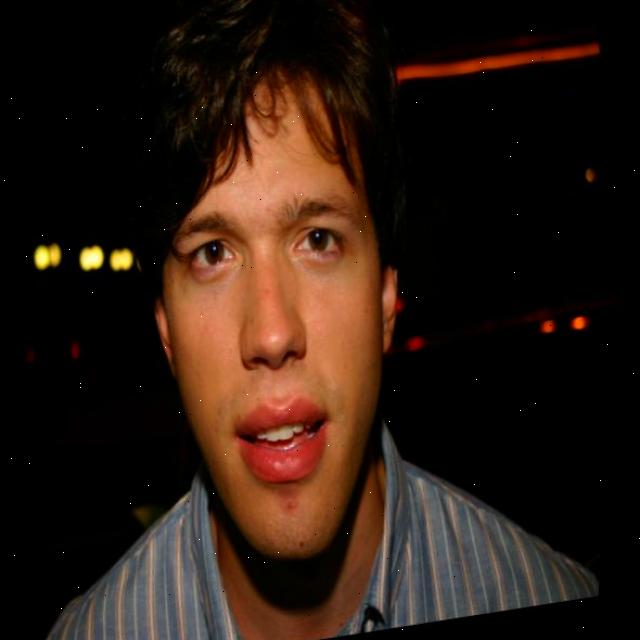puffy_eyes: (292, 253, 350, 291), (192, 261, 242, 305)
